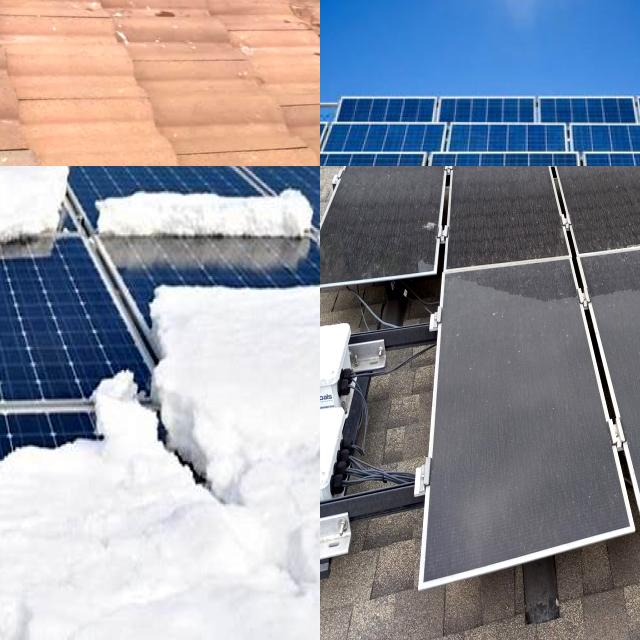crack: (0, 0, 320, 102), (0, 0, 285, 76), (0, 0, 242, 52), (0, 0, 171, 47)
dust: (444, 326, 602, 540), (461, 166, 640, 249), (354, 166, 436, 272), (453, 269, 573, 320), (615, 329, 640, 493), (583, 254, 640, 320)
panel: (89, 176, 320, 260), (90, 374, 215, 496), (0, 397, 87, 511), (4, 166, 76, 286), (0, 480, 53, 640), (135, 242, 196, 364), (212, 240, 320, 307), (0, 493, 41, 638), (0, 267, 30, 422), (26, 166, 183, 195), (190, 166, 320, 197), (0, 404, 46, 489), (0, 220, 57, 268), (0, 166, 73, 186), (0, 166, 65, 188)
